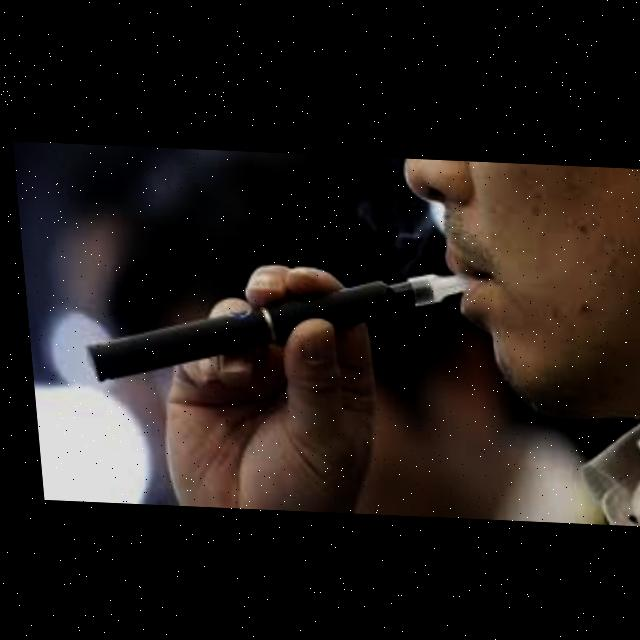vape: (70, 248, 489, 408)
